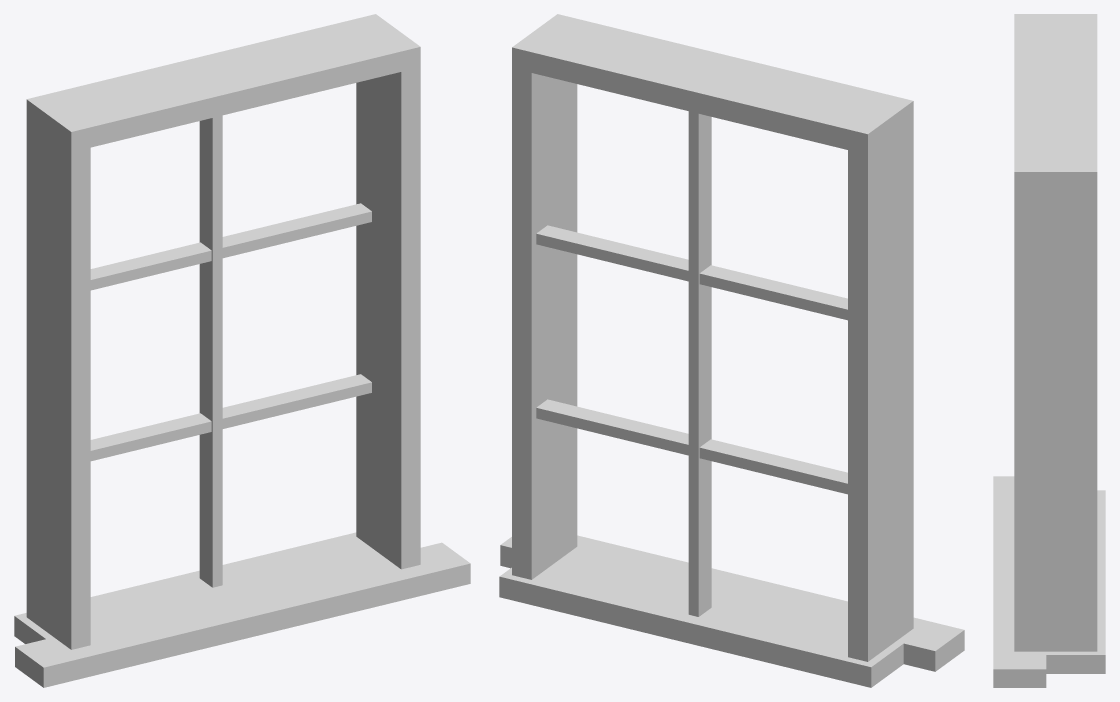
Rendered from Window1_01.fbx.
The picture shows the model from 3 angles, left to right: view 1: azimuth 30°, elevation 25°; view 2: azimuth 150°, elevation 25°; view 3: azimuth 270°, elevation 25°; orthographic projection. The views are drawn at different scales.
Parts seen in each view (by area): view 1: Window1_01; view 2: Window1_01; view 3: Window1_01.
Part boxes in pixels (left/top/right/bottom): Window1_01: left=14, top=14, right=470, bottom=687; Window1_01: left=499, top=14, right=964, bottom=687; Window1_01: left=993, top=14, right=1105, bottom=687.
Bounding box in the file's own units: 110 × 133 × 27.
